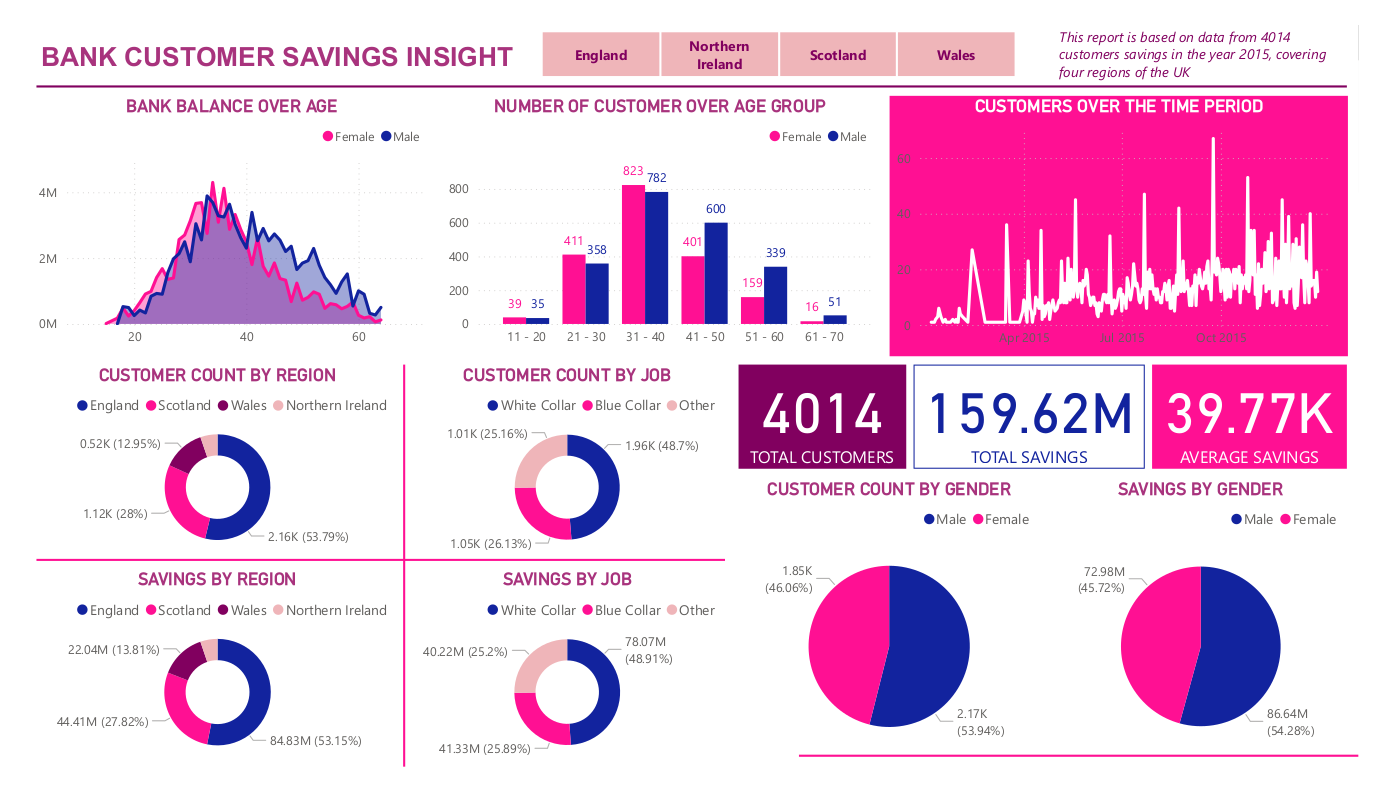

The dashboard page shown, as its layout file describes it:
{"tool":"powerbi","page":{"name":"Overall Insight","canvas":[1280,720],"ordinal":0},"visuals":[{"type":"areaChart","title":"BANK BALANCE OVER AGE","fields":{"Category":["UK Bank Customer Savings Data.Age"],"Y":["Sum(UK Bank Customer Savings Data.Balance)"],"Series":["UK Bank Customer Savings Data.Gender"]},"box":[7.7,67.7,381.5,249.2],"z":0},{"type":"clusteredColumnChart","title":"NUMBER OF CUSTOMER OVER AGE GROUP","fields":{"Category":["UK Bank Customer Savings Data.Age Group"],"Y":["CountNonNull(UK Bank Customer Savings Data.Customer ID)"],"Series":["UK Bank Customer Savings Data.Gender"]},"box":[401,67.7,416.9,249.2],"z":1000},{"type":"pieChart","title":"CUSTOMER COUNT BY GENDER","fields":{"Category":["UK Bank Customer Savings Data.Gender"],"Y":["CountNonNull(UK Bank Customer Savings Data.Customer ID)"]},"box":[684.6,435.4,289.2,275.4],"z":2000},{"type":"donutChart","title":"CUSTOMER COUNT BY REGION","fields":{"Y":["CountNonNull(UK Bank Customer Savings Data.Customer ID)"],"Category":["UK Bank Customer Savings Data.Region"]},"box":[10.8,326.2,347.7,187.7],"z":3000},{"type":"lineChart","title":"CUSTOMERS OVER THE TIME PERIOD","fields":{"Category":["UK Bank Customer Savings Data.Date Joined.Variation.Date Hierarchy.Year","UK Bank Customer Savings Data.Date Joined.Variation.Date Hierarchy.Quarter","UK Bank Customer Savings Data.Date Joined.Variation.Date Hierarchy.Month","UK Bank Customer Savings Data.Date Joined.Variation.Date Hierarchy.Day"],"Y":["CountNonNull(UK Bank Customer Savings Data.Customer ID)"]},"box":[829.7,67.6,440.5,250],"z":4000},{"type":"donutChart","title":"CUSTOMER COUNT BY JOB ","fields":{"Category":["UK Bank Customer Savings Data.Job Classification"],"Y":["CountNonNull(UK Bank Customer Savings Data.Customer ID)"]},"box":[369.2,326.2,303.1,187.7],"z":5000},{"type":"pieChart","title":"SAVINGS BY GENDER","fields":{"Category":["UK Bank Customer Savings Data.Gender"],"Y":["Sum(UK Bank Customer Savings Data.Balance)"]},"box":[987.7,435.4,281.5,275.4],"z":6000},{"type":"card","fields":{"Values":["Measures Table.Total Customers"]},"box":[684.6,326.2,161.5,100],"z":7000},{"type":"card","fields":{"Values":["Measures Table.Total Savings"]},"box":[853.1,326.2,221.5,100],"z":8000},{"type":"card","fields":{"Values":["Measures Table.Average Savings"]},"box":[1081.5,326.5,187.7,100],"z":9000},{"type":"shape","box":[0,0,1280.4,60.7],"z":10000},{"type":"donutChart","title":"SAVINGS BY REGION","fields":{"Category":["UK Bank Customer Savings Data.Region"],"Y":["Sum(UK Bank Customer Savings Data.Balance)"]},"box":[10.8,521.5,347.7,189.2],"z":11000},{"type":"donutChart","title":"SAVINGS BY JOB","fields":{"Category":["UK Bank Customer Savings Data.Job Classification"],"Y":["Sum(UK Bank Customer Savings Data.Balance)"]},"box":[369.2,521.5,303.1,189.2],"z":12000},{"type":"shape","box":[10.8,495.4,661.5,36.9],"z":13000},{"type":"shape","box":[353.8,326.2,20,386.2],"z":14000},{"type":"slicer","fields":{"Values":["UK Bank Customer Savings Data.Region"]},"box":[470.8,0,503.1,55.4],"z":15000},{"type":"shape","box":[987.7,0,281.5,55.4],"z":15001},{"type":"shape","box":[743.1,683.1,536.9,36.9],"z":15003},{"type":"shape","box":[10.8,43.1,1258.5,32.3],"z":15004}]}

Visuals, with their boxes in screenshot pixels (x1, y1, x2, y2), scaled from the page's 1280x720 canvas onto the 1383x800 screenshot:
"BANK BALANCE OVER AGE" areaChart: <region>8, 75, 421, 352</region>
"NUMBER OF CUSTOMER OVER AGE GROUP" clusteredColumnChart: <region>433, 75, 884, 352</region>
"CUSTOMER COUNT BY GENDER" pieChart: <region>740, 484, 1052, 790</region>
"CUSTOMER COUNT BY REGION" donutChart: <region>12, 362, 387, 571</region>
"CUSTOMERS OVER THE TIME PERIOD" lineChart: <region>896, 75, 1372, 353</region>
"CUSTOMER COUNT BY JOB " donutChart: <region>399, 362, 726, 571</region>
"SAVINGS BY GENDER" pieChart: <region>1067, 484, 1371, 790</region>
card - Measures Table.Total Customers: <region>740, 362, 914, 474</region>
card - Measures Table.Total Savings: <region>922, 362, 1161, 474</region>
card - Measures Table.Average Savings: <region>1169, 363, 1371, 474</region>
shape: <region>0, 0, 1382, 67</region>
"SAVINGS BY REGION" donutChart: <region>12, 579, 387, 790</region>
"SAVINGS BY JOB" donutChart: <region>399, 579, 726, 790</region>
shape: <region>12, 550, 726, 591</region>
shape: <region>382, 362, 404, 792</region>
slicer - UK Bank Customer Savings Data.Region: <region>509, 0, 1052, 62</region>
shape: <region>1067, 0, 1371, 62</region>
shape: <region>803, 759, 1382, 799</region>
shape: <region>12, 48, 1371, 84</region>
